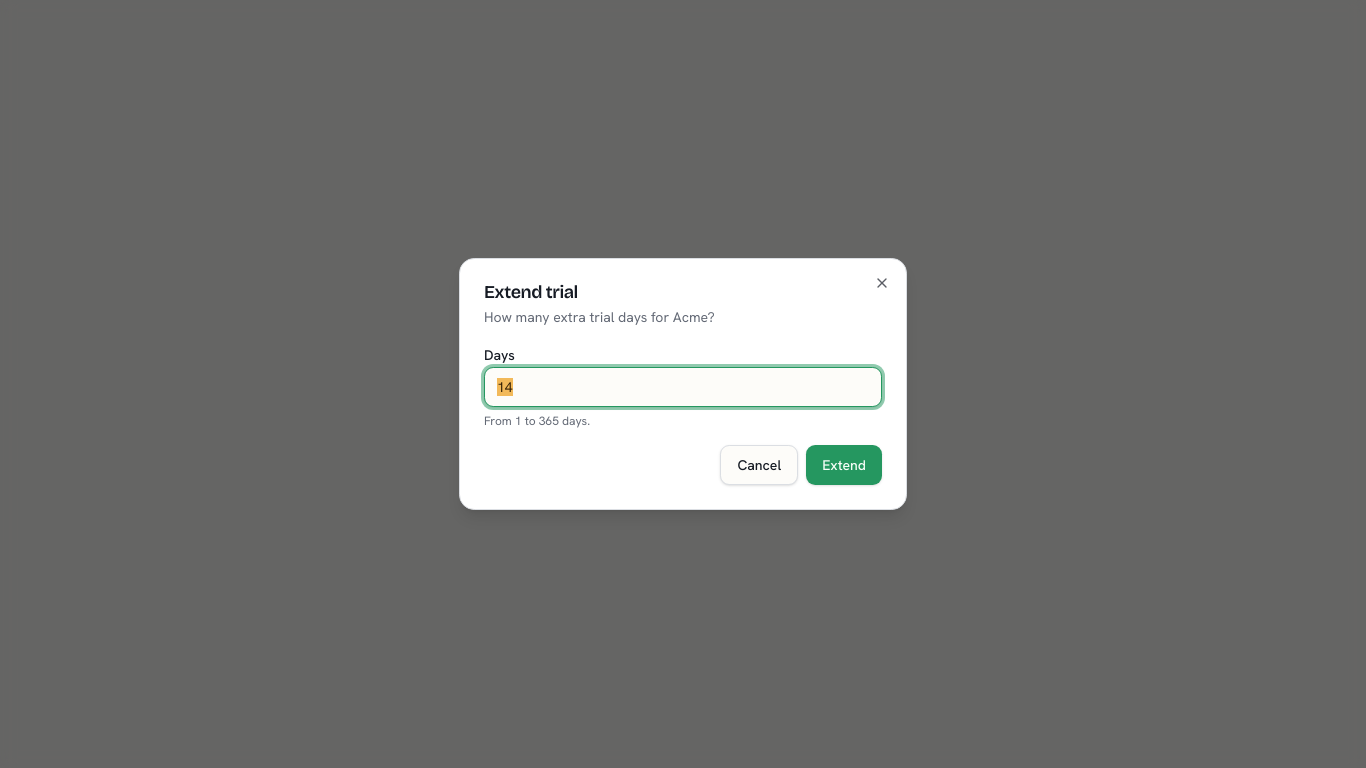
Test: ExtendTrialDialog › refuses what the contract refuses — zero, beyond a year, or not a number
Replace the text in the field labelled "Days" with "0" at (683, 387), box [484, 367, 882, 407]
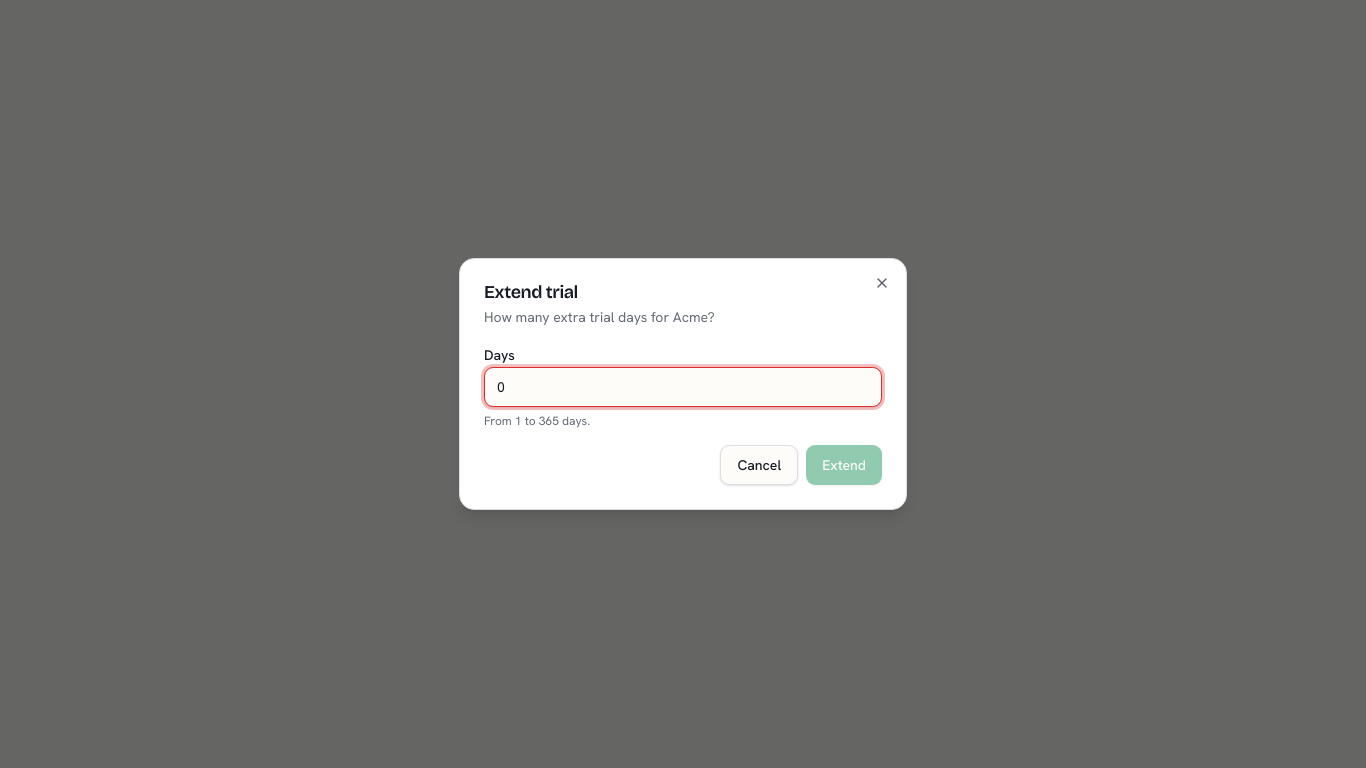
expect the button "Extend" is disabled: met, box [806, 445, 882, 485]
Replace the text in the field labelled "Days" with "400" at (683, 387), box [484, 367, 882, 407]
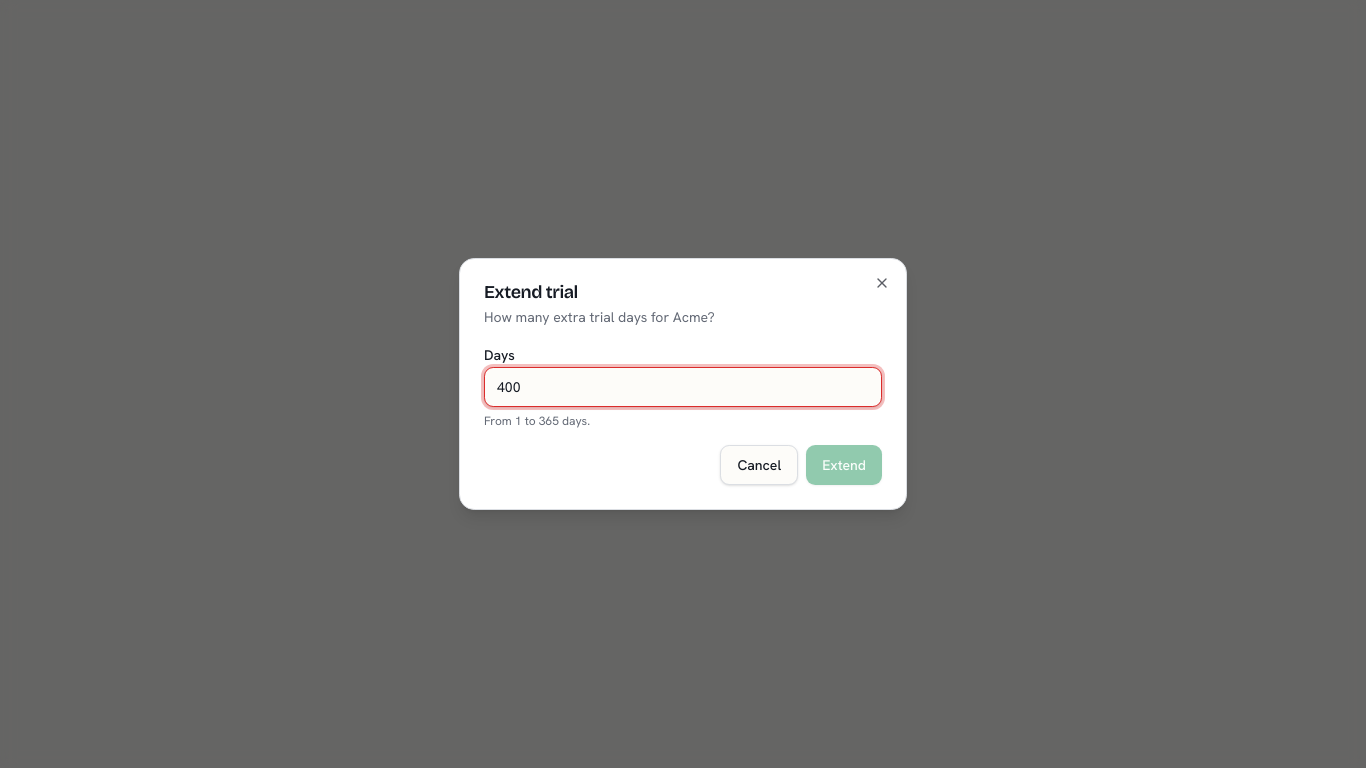
expect the button "Extend" is disabled: met, box [806, 445, 882, 485]
Replace the text in the field labelled "Days" with "abc" at (683, 387), box [484, 367, 882, 407]
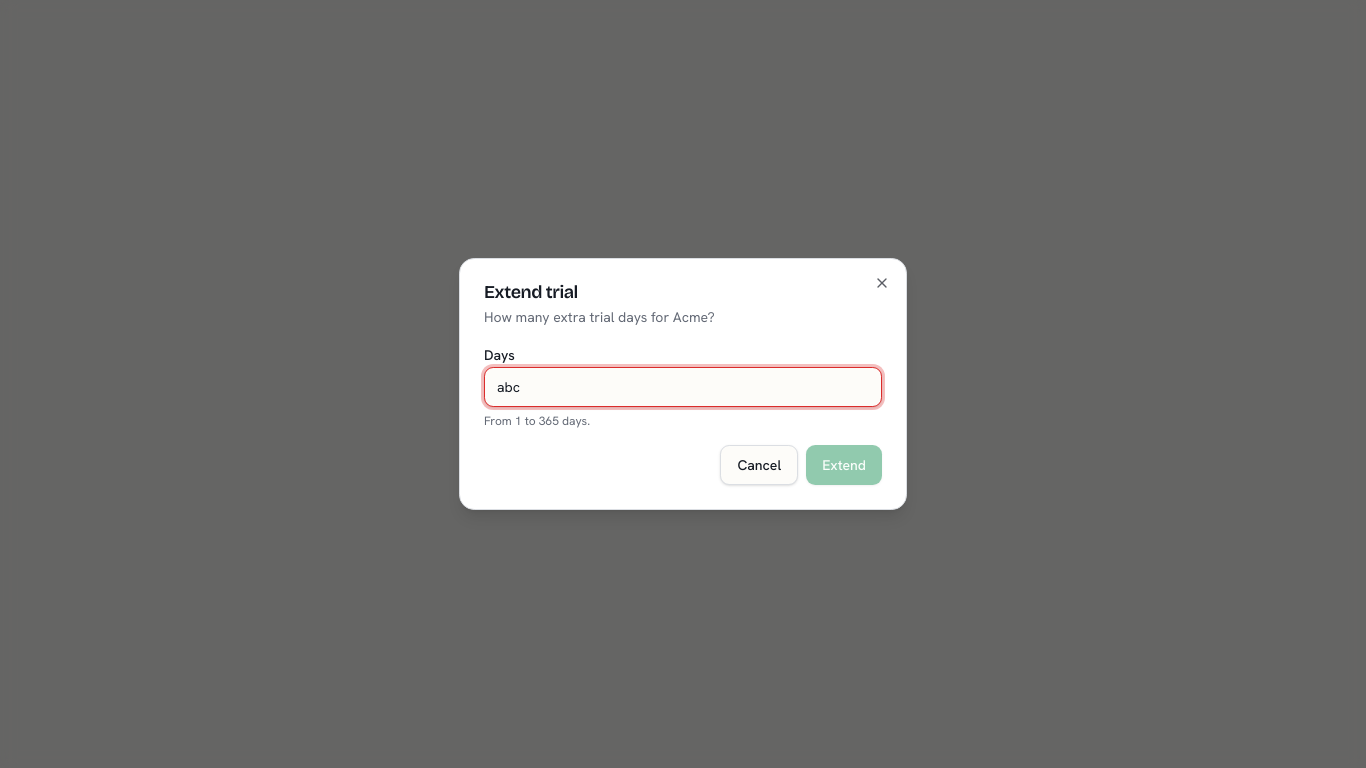
expect the button "Extend" is disabled: met, box [806, 445, 882, 485]
Replace the text in the field labelled "Days" with "30" at (683, 387), box [484, 367, 882, 407]
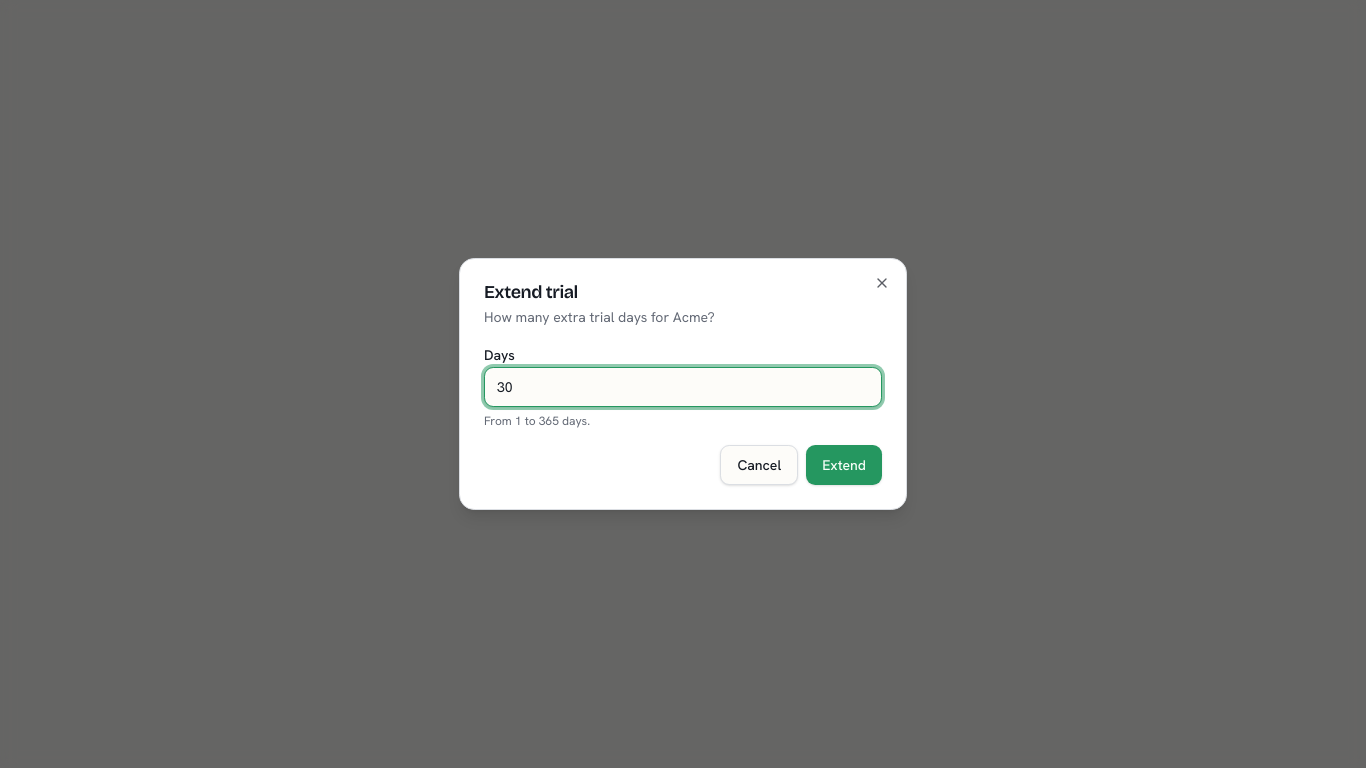
expect the button "Extend" is enabled: met, box [806, 445, 882, 485]
